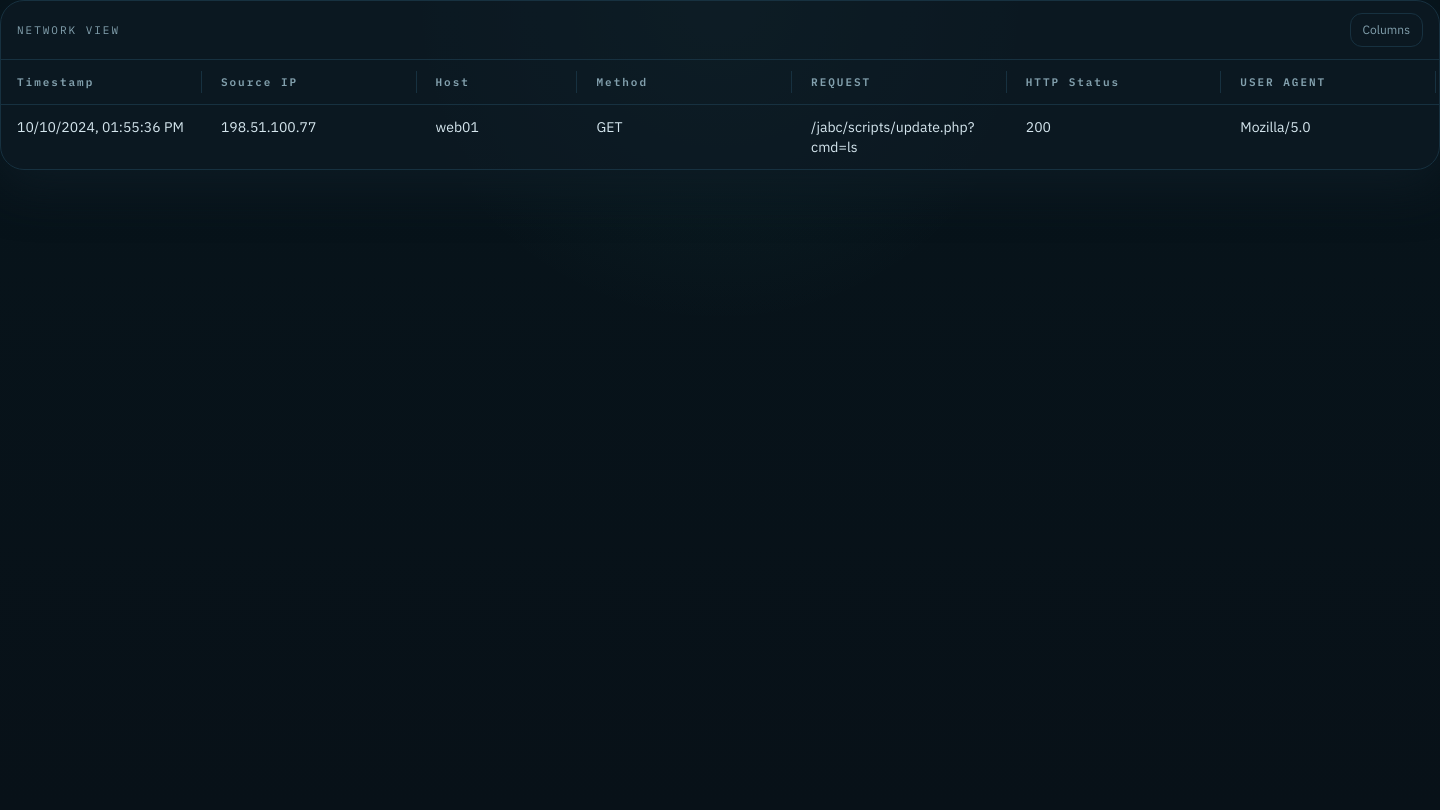
Test: EventTable network service-log profiles › separates semantic details from provenance and keeps raw JSON available
Click the button "198.51.100.77" at (269, 127), box [221,118,316,136]
(page scrolled)
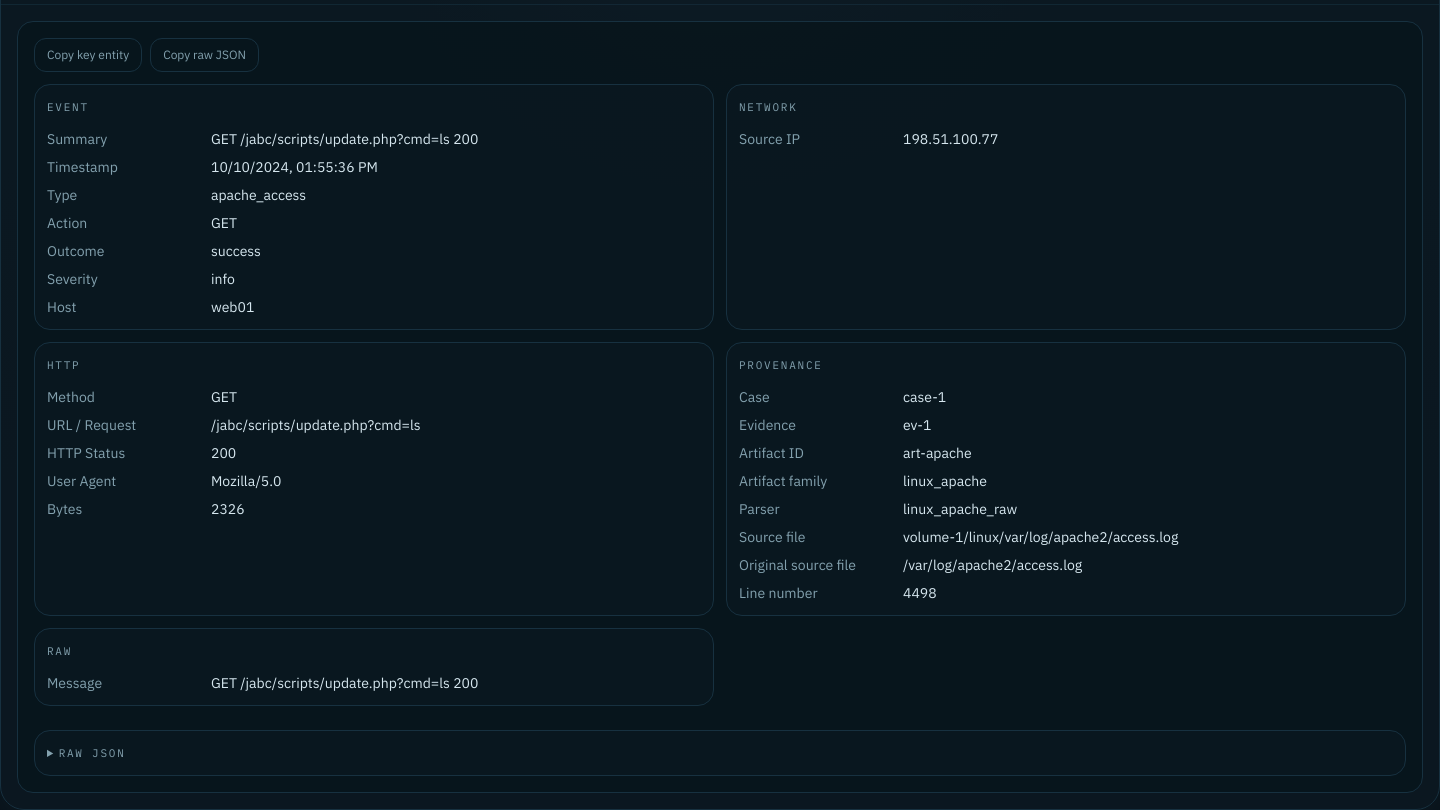
Result: the text "Event" is shown at [47,100,89,114]
Result: the text "Network" is shown at [739,100,798,114]
Result: the text "HTTP" is shown at [47,358,80,372]
